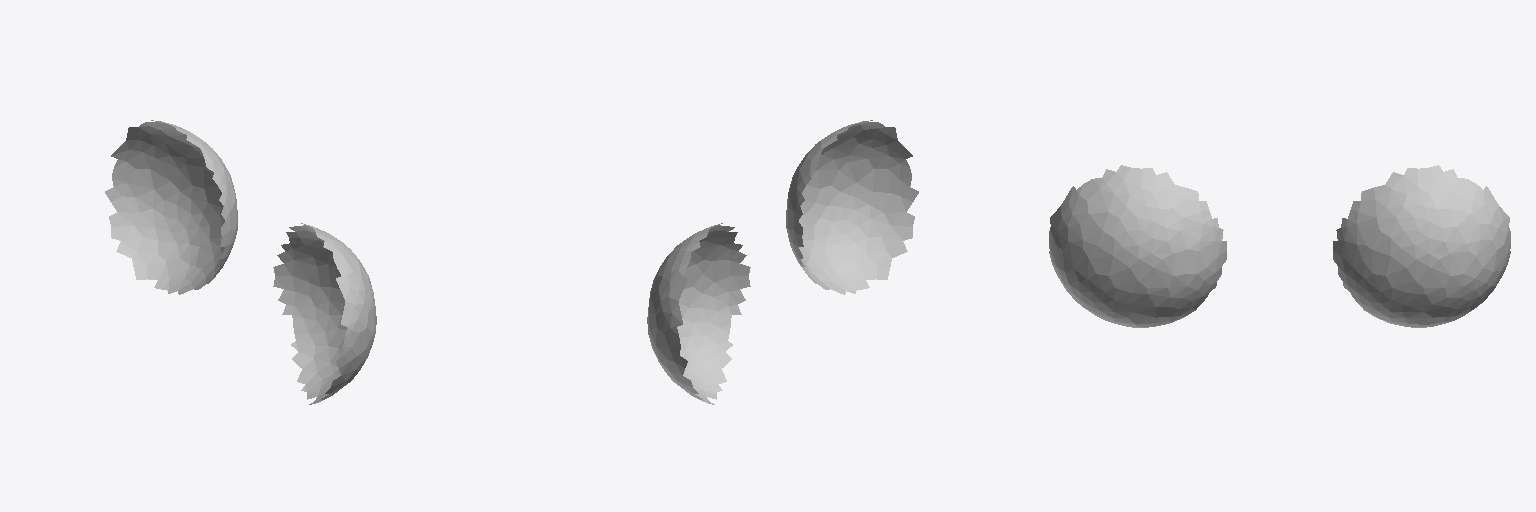
File: eyes.obj
The picture shows the model from 3 angles: view 1: azimuth 30°, elevation 25°; view 2: azimuth 150°, elevation 25°; view 3: azimuth 270°, elevation 25°; orthographic projection.
Visible parts, largest first — view 1: eyeballs; view 2: eyeballs; view 3: eyeballs.
Part boxes in pixels (x1,y1,x2,y2): eyeballs: (105, 120, 376, 404); eyeballs: (647, 120, 918, 404); eyeballs: (1049, 165, 1510, 327).
Size of the model in its own units: 0.9171 by 1.86 by 4.78.